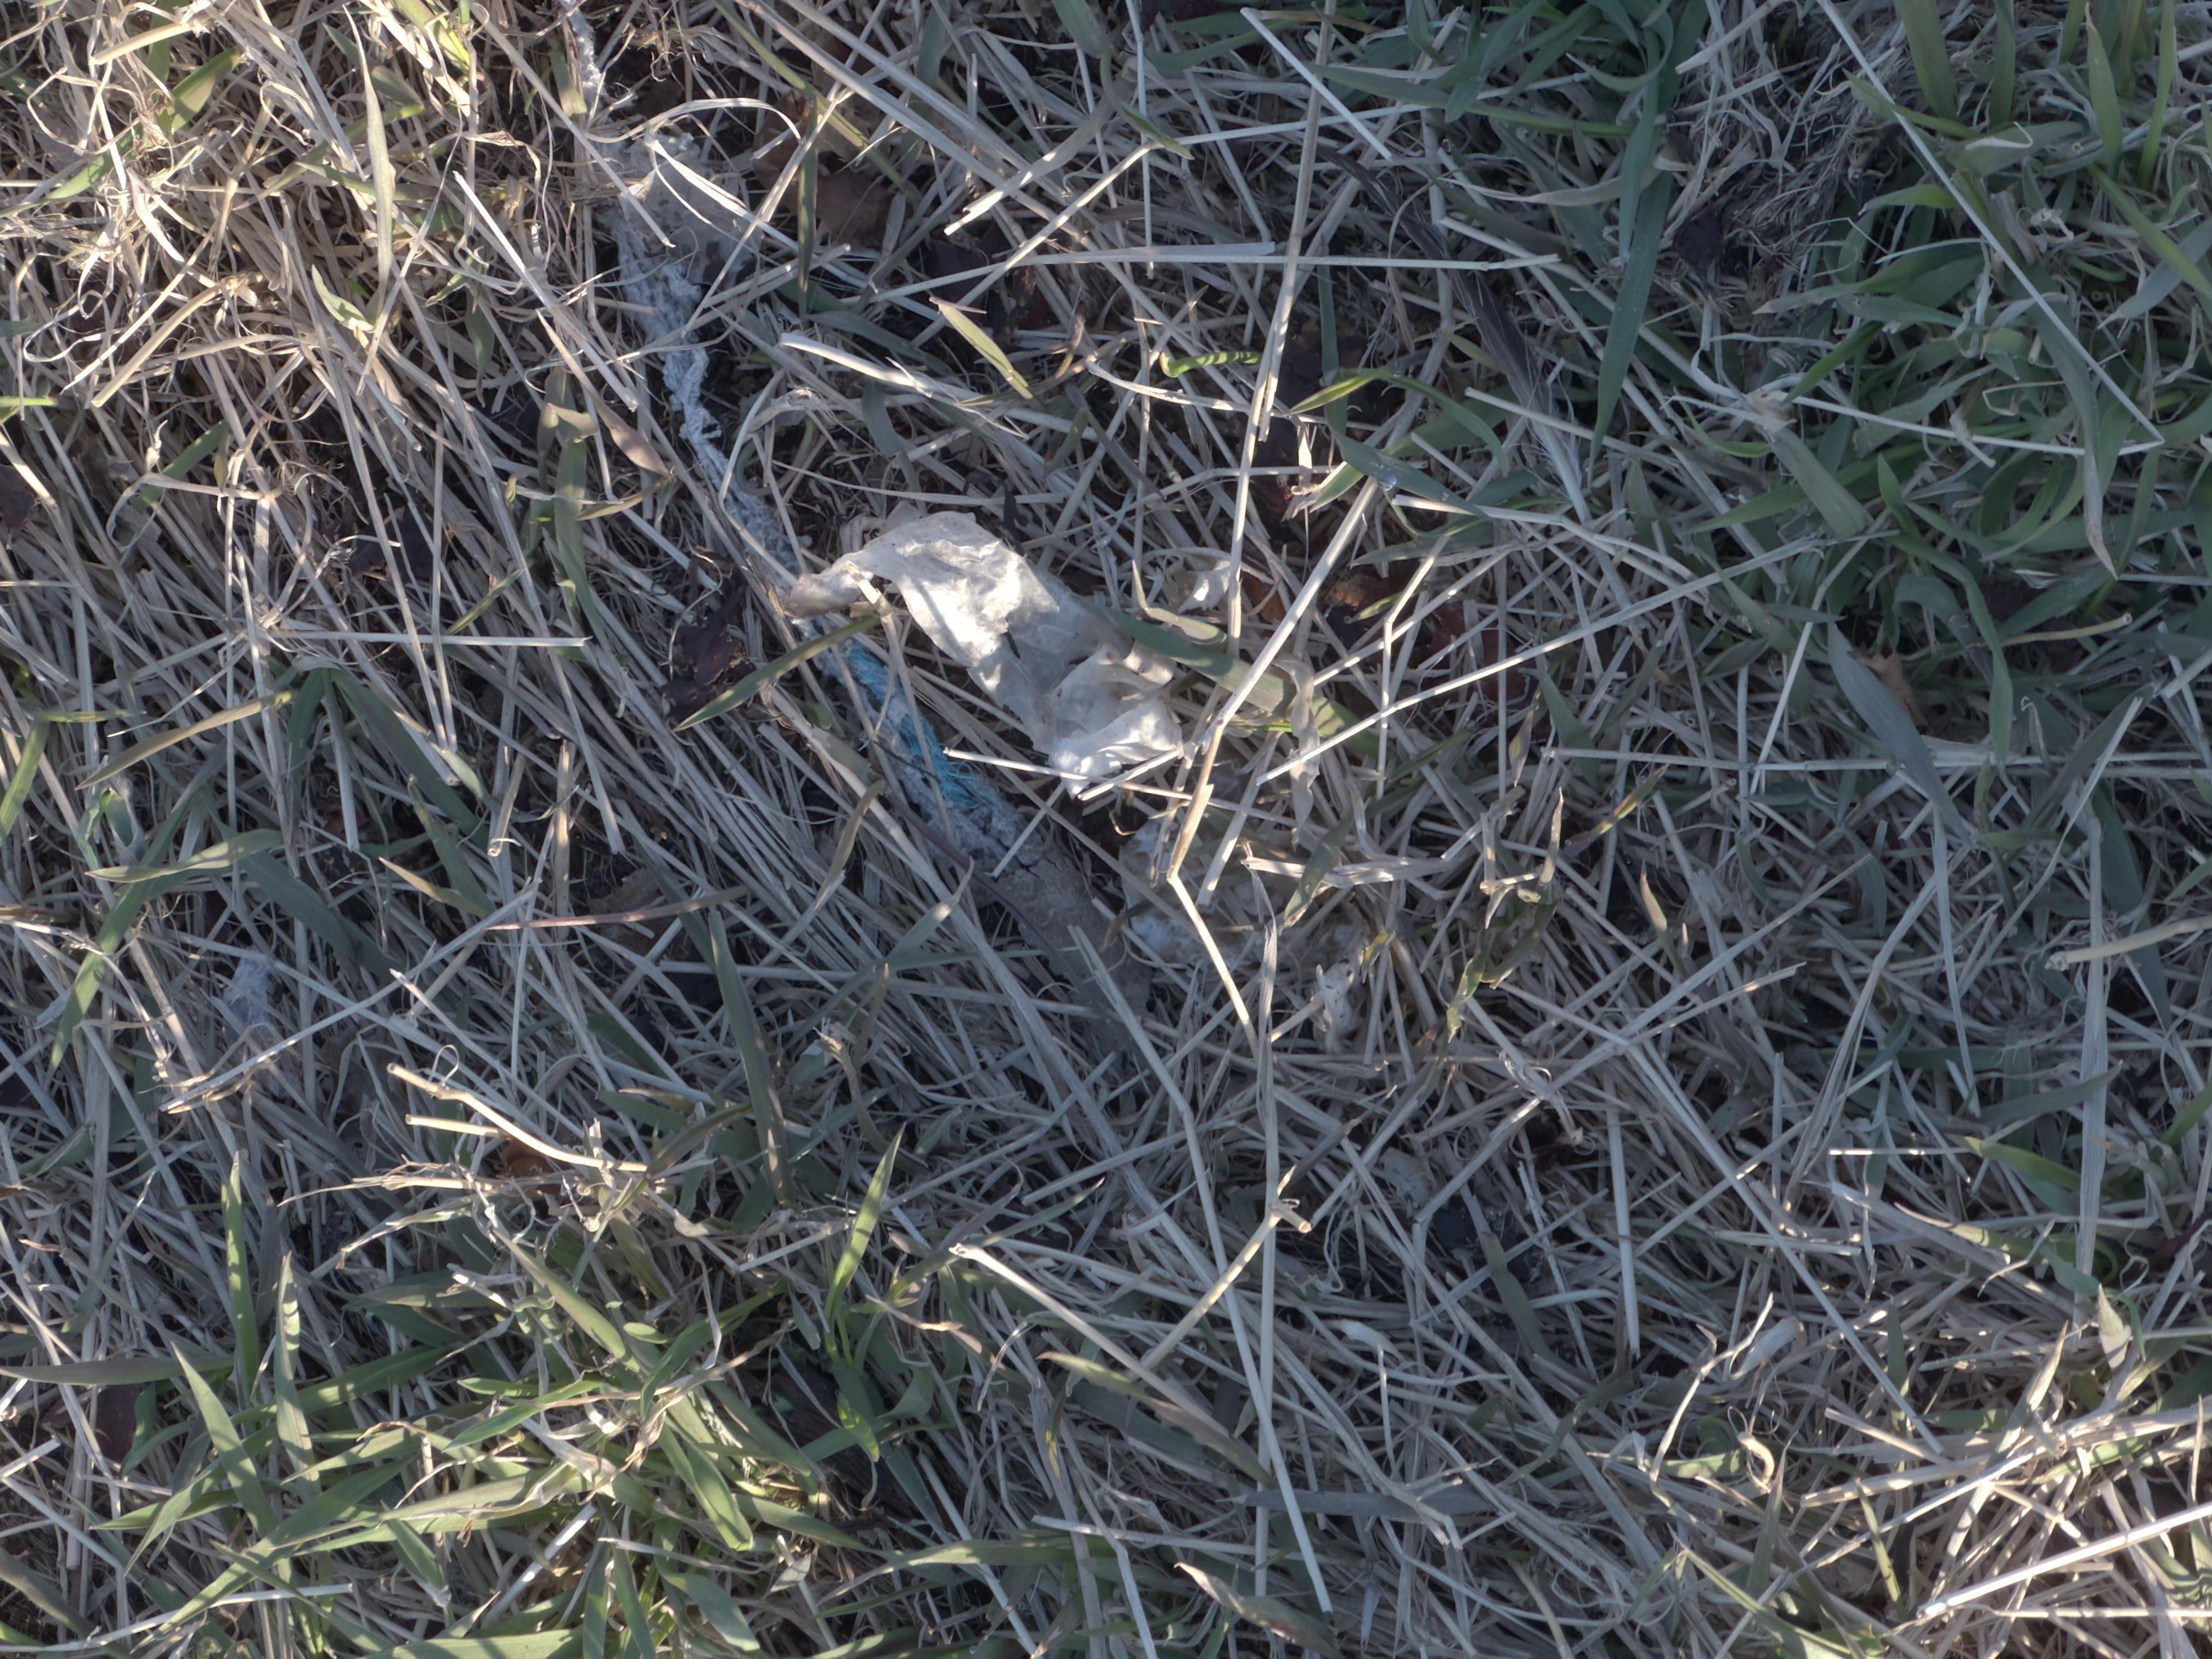trash: (604, 138, 1184, 791), (829, 631, 1144, 1040), (786, 514, 1179, 791)
